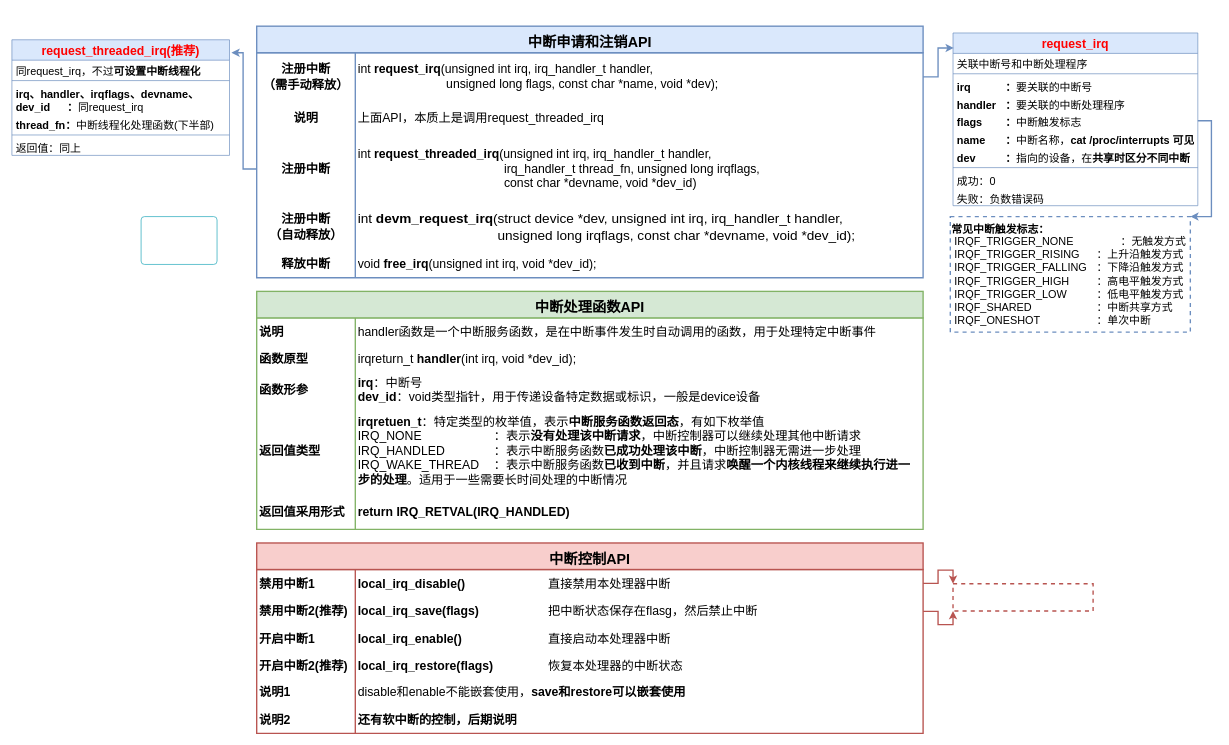
Some shapes in this 1229 by 745 pixel diagram are drawn without their labels. Here are the shapes that lost their labels. From the top down, the centre of each, then its label:
At [178,240]: "🌻Make By Dakkk".
At [1022,597]: "只能禁止当前处理器的中断".
